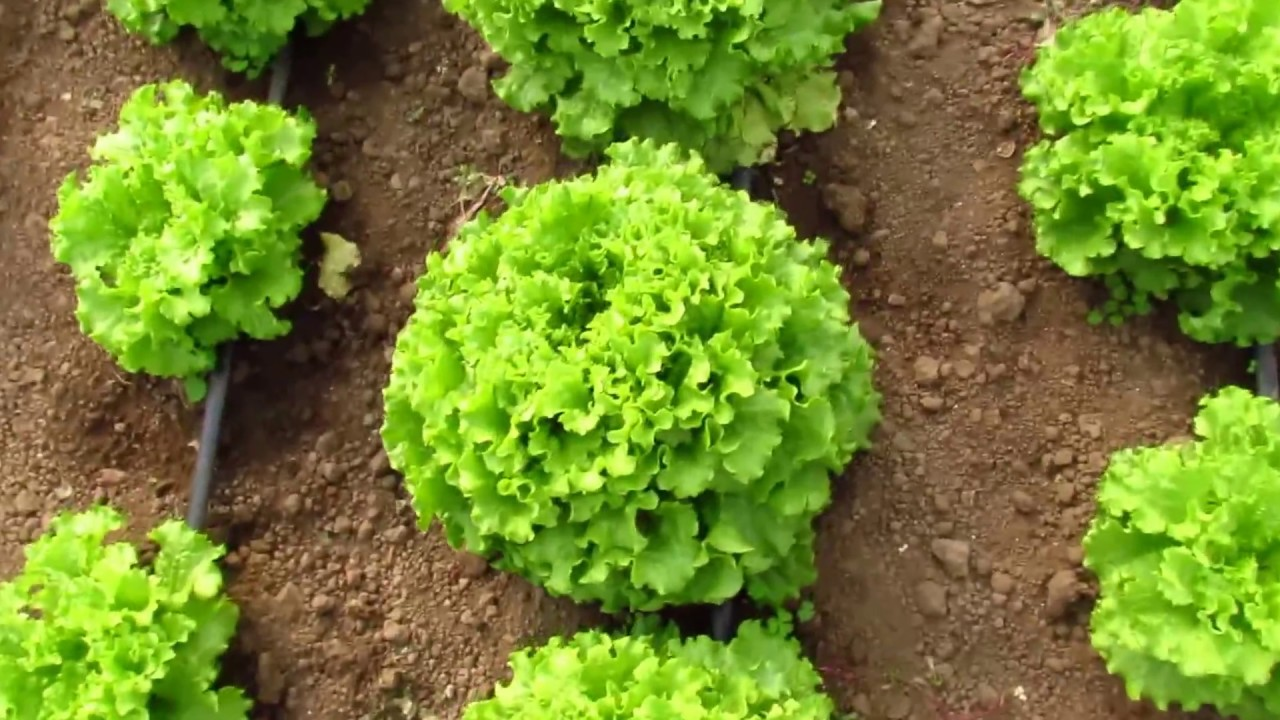Lettuce: (384, 142, 879, 619)
